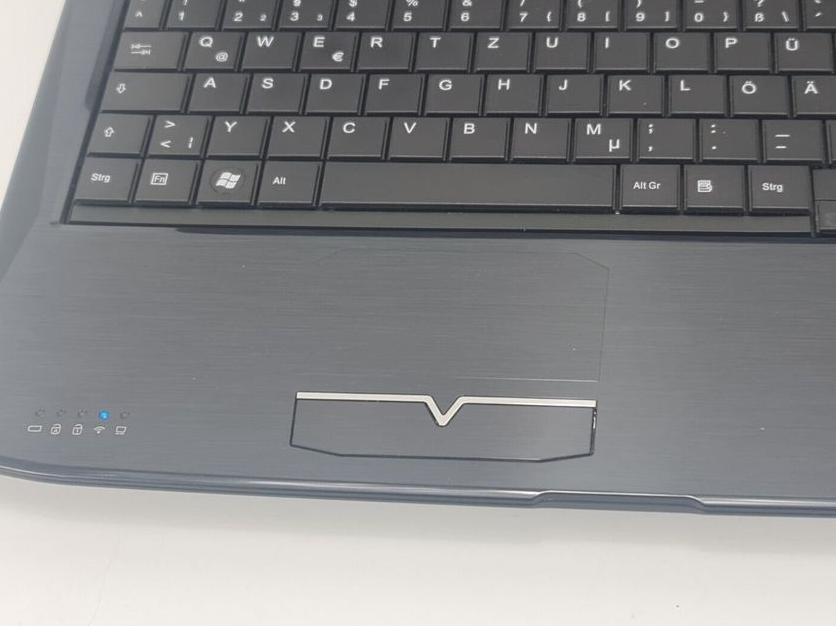0: (679, 1, 736, 27)
1: (163, 1, 219, 27)
2: (219, 1, 275, 27)
3: (275, 1, 332, 27)
4: (333, 1, 387, 27)
5: (389, 1, 444, 27)
6: (446, 1, 502, 27)
7: (504, 1, 560, 27)
8: (563, 1, 616, 27)
9: (620, 1, 676, 27)
a: (184, 69, 244, 110)
accent: (800, 1, 836, 27)
ae: (789, 71, 836, 113)
alt-left: (253, 156, 317, 203)
altgr-right: (616, 159, 678, 206)
b: (446, 113, 506, 156)
c: (323, 112, 385, 155)
caret: (121, 1, 163, 26)
comma: (634, 114, 692, 157)
d: (301, 70, 360, 111)
e: (296, 27, 353, 68)
f: (362, 69, 419, 111)
g: (421, 70, 478, 111)
h: (481, 69, 538, 111)
i: (591, 28, 645, 67)
j: (543, 70, 598, 111)
k: (604, 70, 660, 111)
keyboard: (53, 1, 836, 240)
l: (666, 70, 723, 112)
less: (143, 110, 206, 154)
m: (570, 113, 630, 157)
minus: (760, 115, 820, 158)
n: (507, 113, 567, 157)
o: (650, 28, 706, 68)
oe: (727, 71, 786, 113)
p: (710, 27, 767, 68)
point: (696, 115, 757, 157)
q: (180, 28, 239, 68)
r: (354, 28, 410, 68)
s: (243, 69, 302, 110)
shift-left: (81, 110, 147, 153)
shift-lock: (97, 68, 185, 109)
space: (316, 158, 615, 205)
ss: (739, 1, 796, 26)
strg-left: (68, 154, 135, 200)
strg-right: (745, 160, 810, 208)
t: (412, 28, 468, 68)
tab: (109, 27, 181, 67)
u: (530, 28, 586, 68)
ue: (770, 28, 830, 70)
v: (385, 113, 445, 156)
w: (238, 27, 295, 68)
x: (264, 112, 323, 155)
y: (204, 112, 264, 154)
z: (472, 28, 527, 68)
